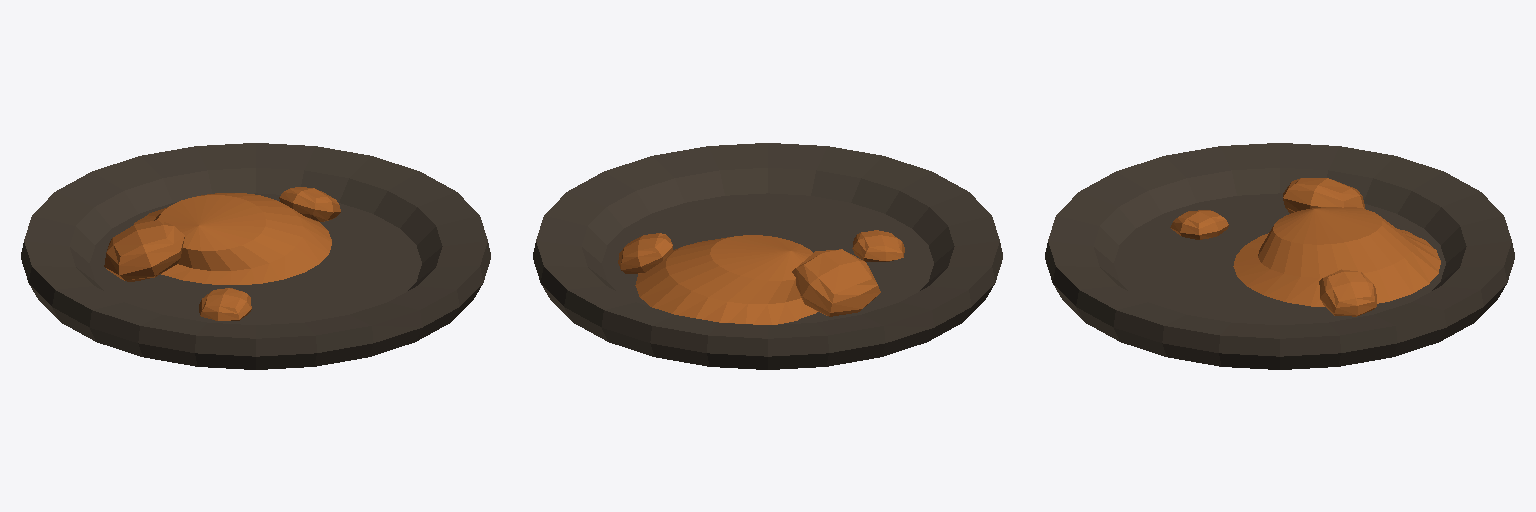
File: plateHalf.obj
The picture shows the model from 3 angles: view 1: azimuth 30°, elevation 25°; view 2: azimuth 150°, elevation 25°; view 3: azimuth 270°, elevation 25°; orthographic projection.
Visible parts, largest first — view 1: plateHalf_Cylinder.253; view 2: plateHalf_Cylinder.253; view 3: plateHalf_Cylinder.253.
Part boxes in pixels (x1,y1,x2,y2): plateHalf_Cylinder.253: (21,143,490,369); plateHalf_Cylinder.253: (533,143,1002,369); plateHalf_Cylinder.253: (1045,143,1514,369).
Size of the model in its own units: 0.6587 by 0.1078 by 0.6587.